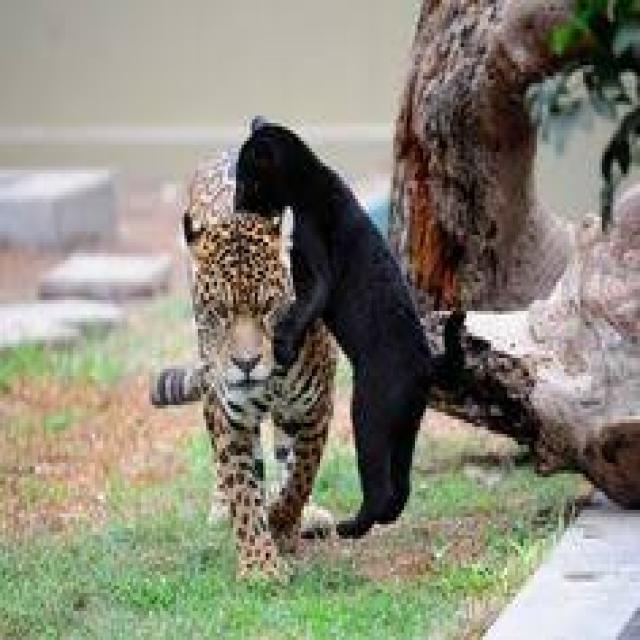Jaguar: (146, 152, 339, 586)
